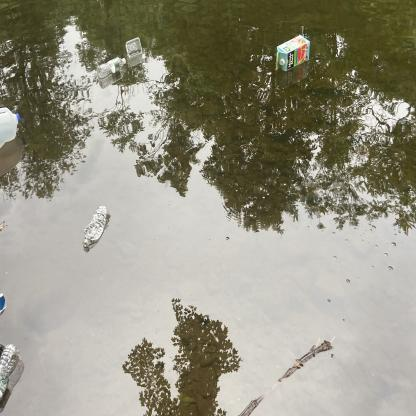trash: (274, 32, 316, 76), (80, 199, 112, 254), (0, 336, 22, 408), (0, 98, 25, 151), (92, 51, 129, 80), (123, 30, 143, 59), (0, 290, 10, 317)
